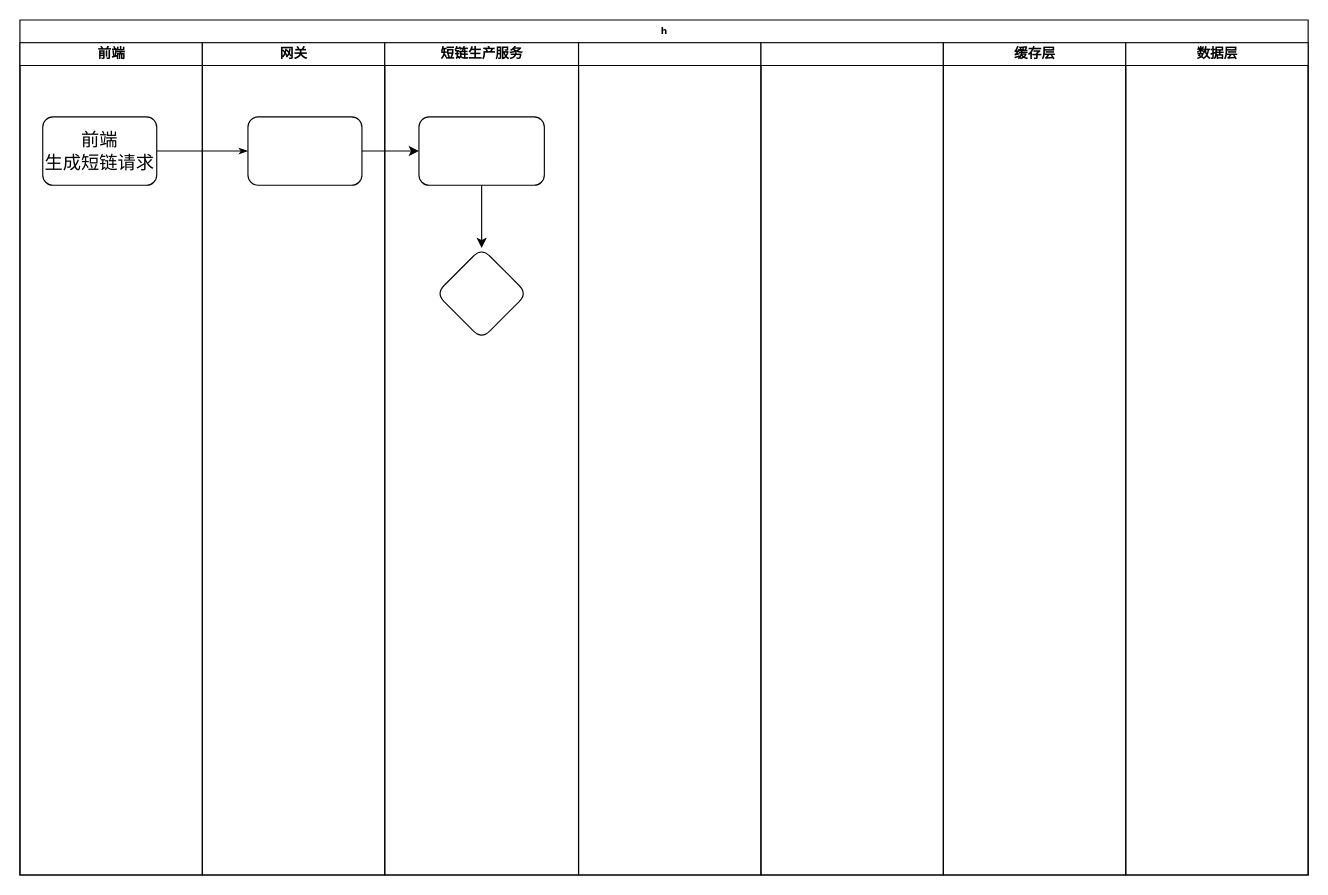
This 1328x895 diagram has some shape labels left out. The centre of each missing label's shape, as x and y in pixels:
"布隆过滤器" belongs at [851,458].
"短链查询服务" belongs at [669,458].
"短链生成" belongs at [481,150].
"路由" belongs at [304,150].
